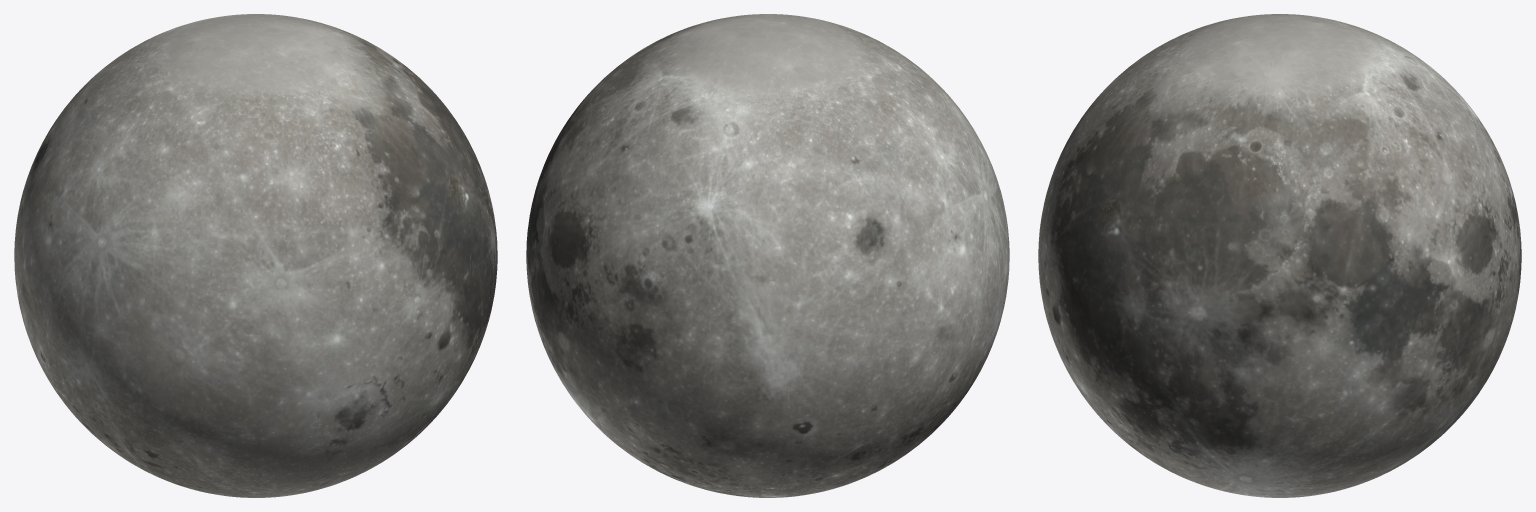
File: moon.gltf
3 renders of one model, left to right at view 1: azimuth 30°, elevation 25°; view 2: azimuth 150°, elevation 25°; view 3: azimuth 270°, elevation 25°, orthographic.
Parts seen in each view (by area): view 1: Sphere; view 2: Sphere; view 3: Sphere.
Part boxes in pixels (bbox=[...]): Sphere: bbox=[14, 14, 497, 497]; Sphere: bbox=[526, 14, 1009, 497]; Sphere: bbox=[1038, 14, 1521, 497].
Bounding box in the file's own units: 1.99 × 2 × 1.99.
Materials: 1 (1 with a texture image).
